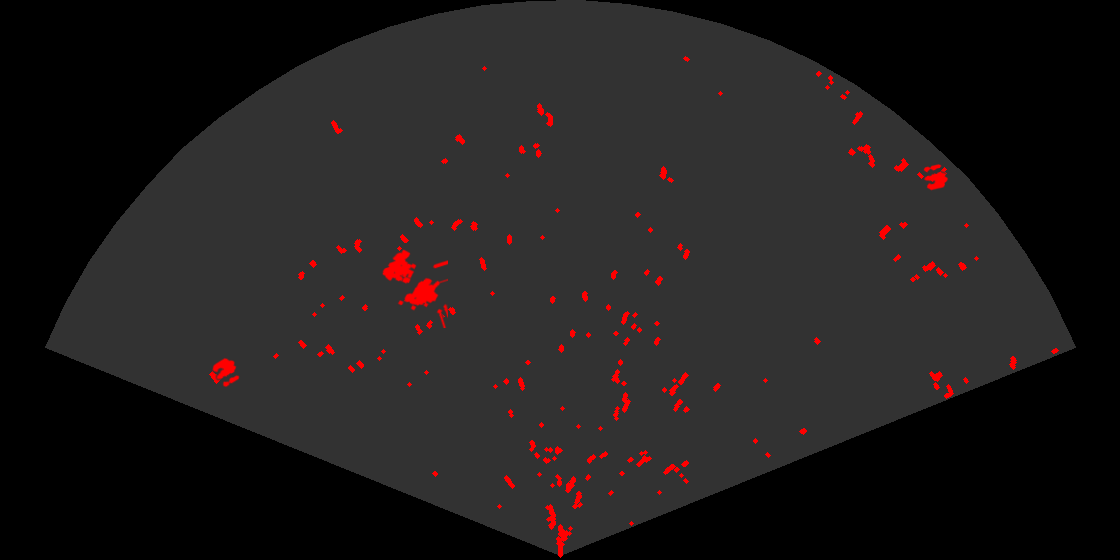ball: (211, 356, 241, 389), (922, 163, 949, 192)
cage: (381, 248, 448, 328)
